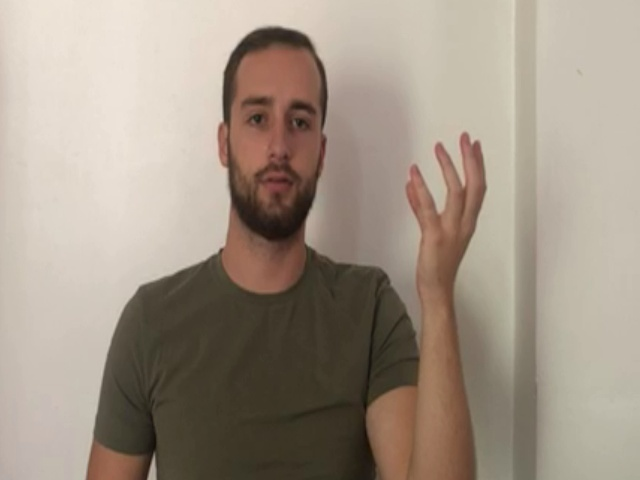Sonce: (398, 127, 499, 301)
